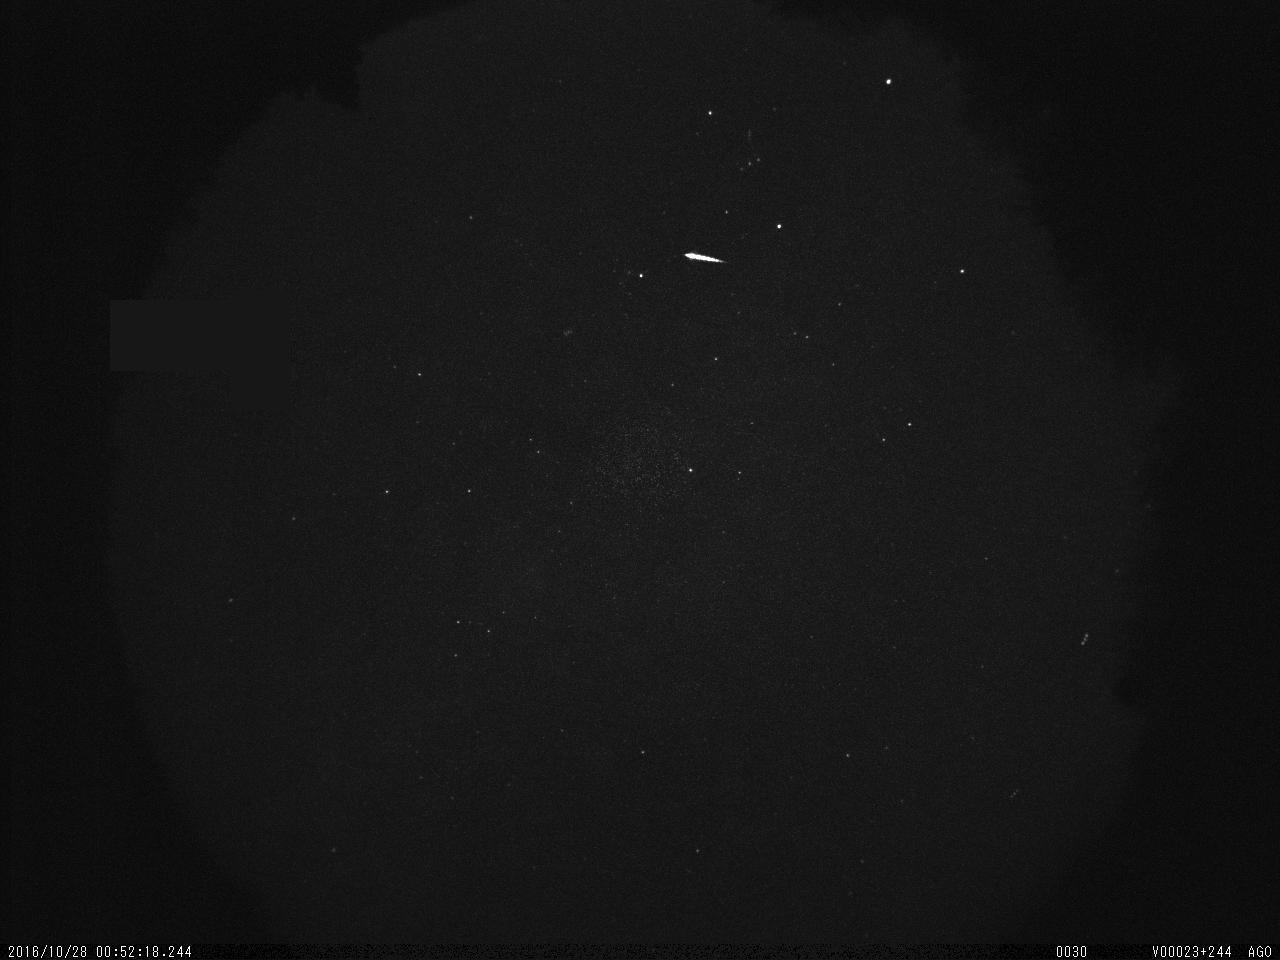meteor: (656, 224, 739, 293)
